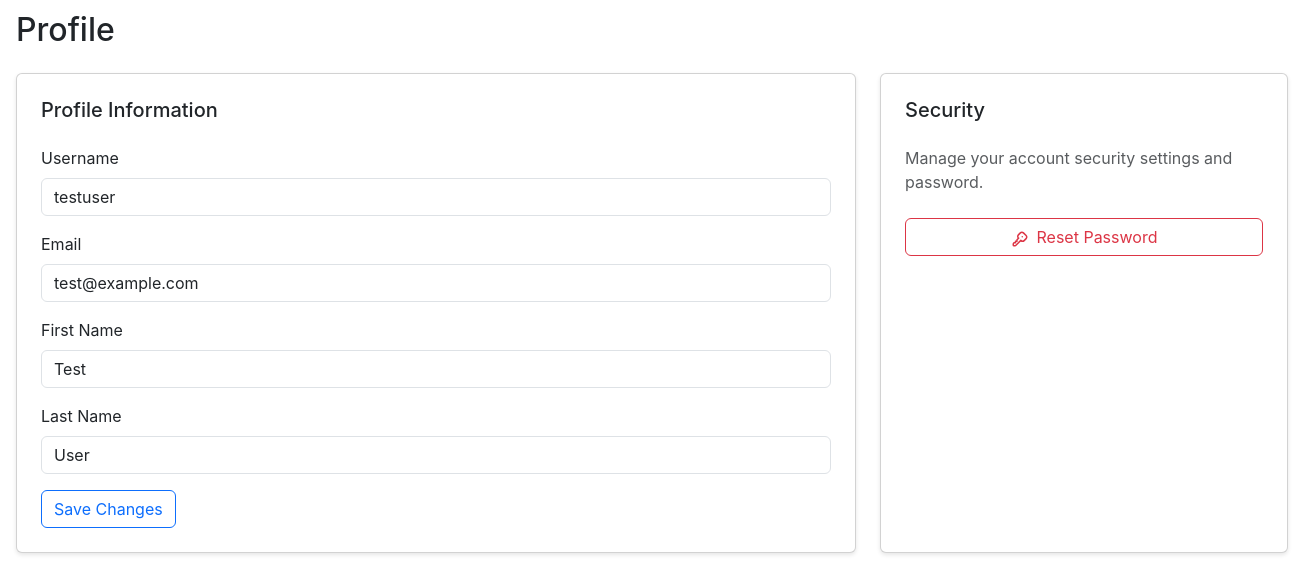
Test: Profile Page › Profile Form › disables save button while saving
Expected: the field showing "testuser" below "Username" is shown, x1=41 y1=178 x2=831 y2=216
Click the button "Save Changes" at (108, 509), box x1=41 y1=490 x2=176 y2=528
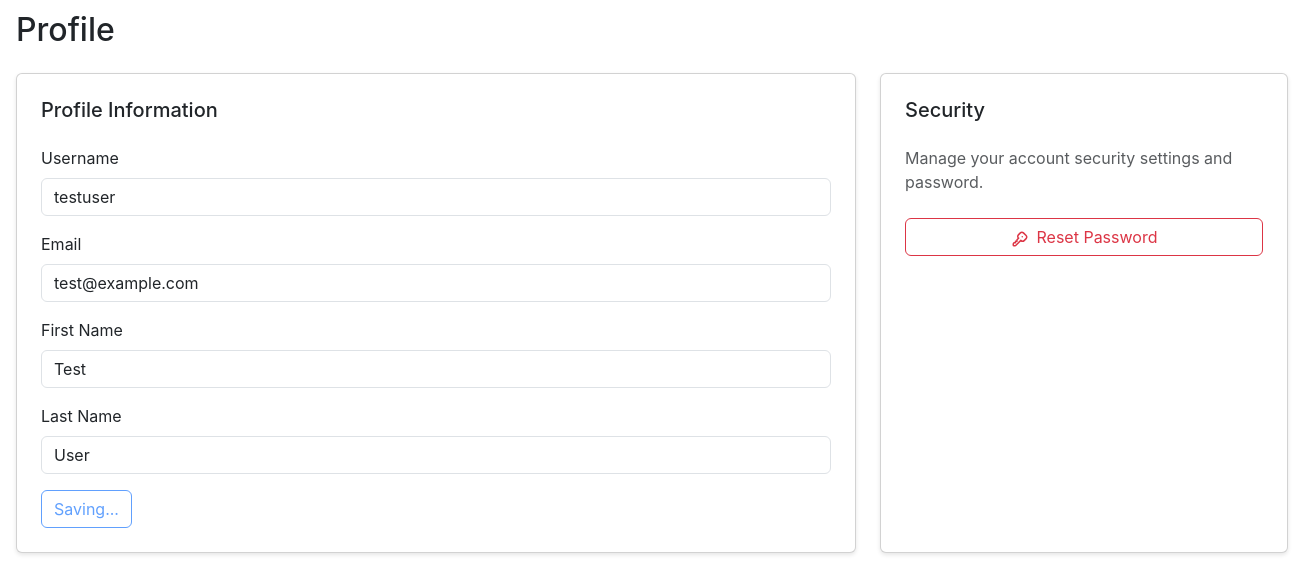
Result: the button named "Save Changes" is disabled at x1=41 y1=490 x2=132 y2=528
Result: the button named "Save Changes" reads "Saving..." at x1=41 y1=490 x2=132 y2=528
